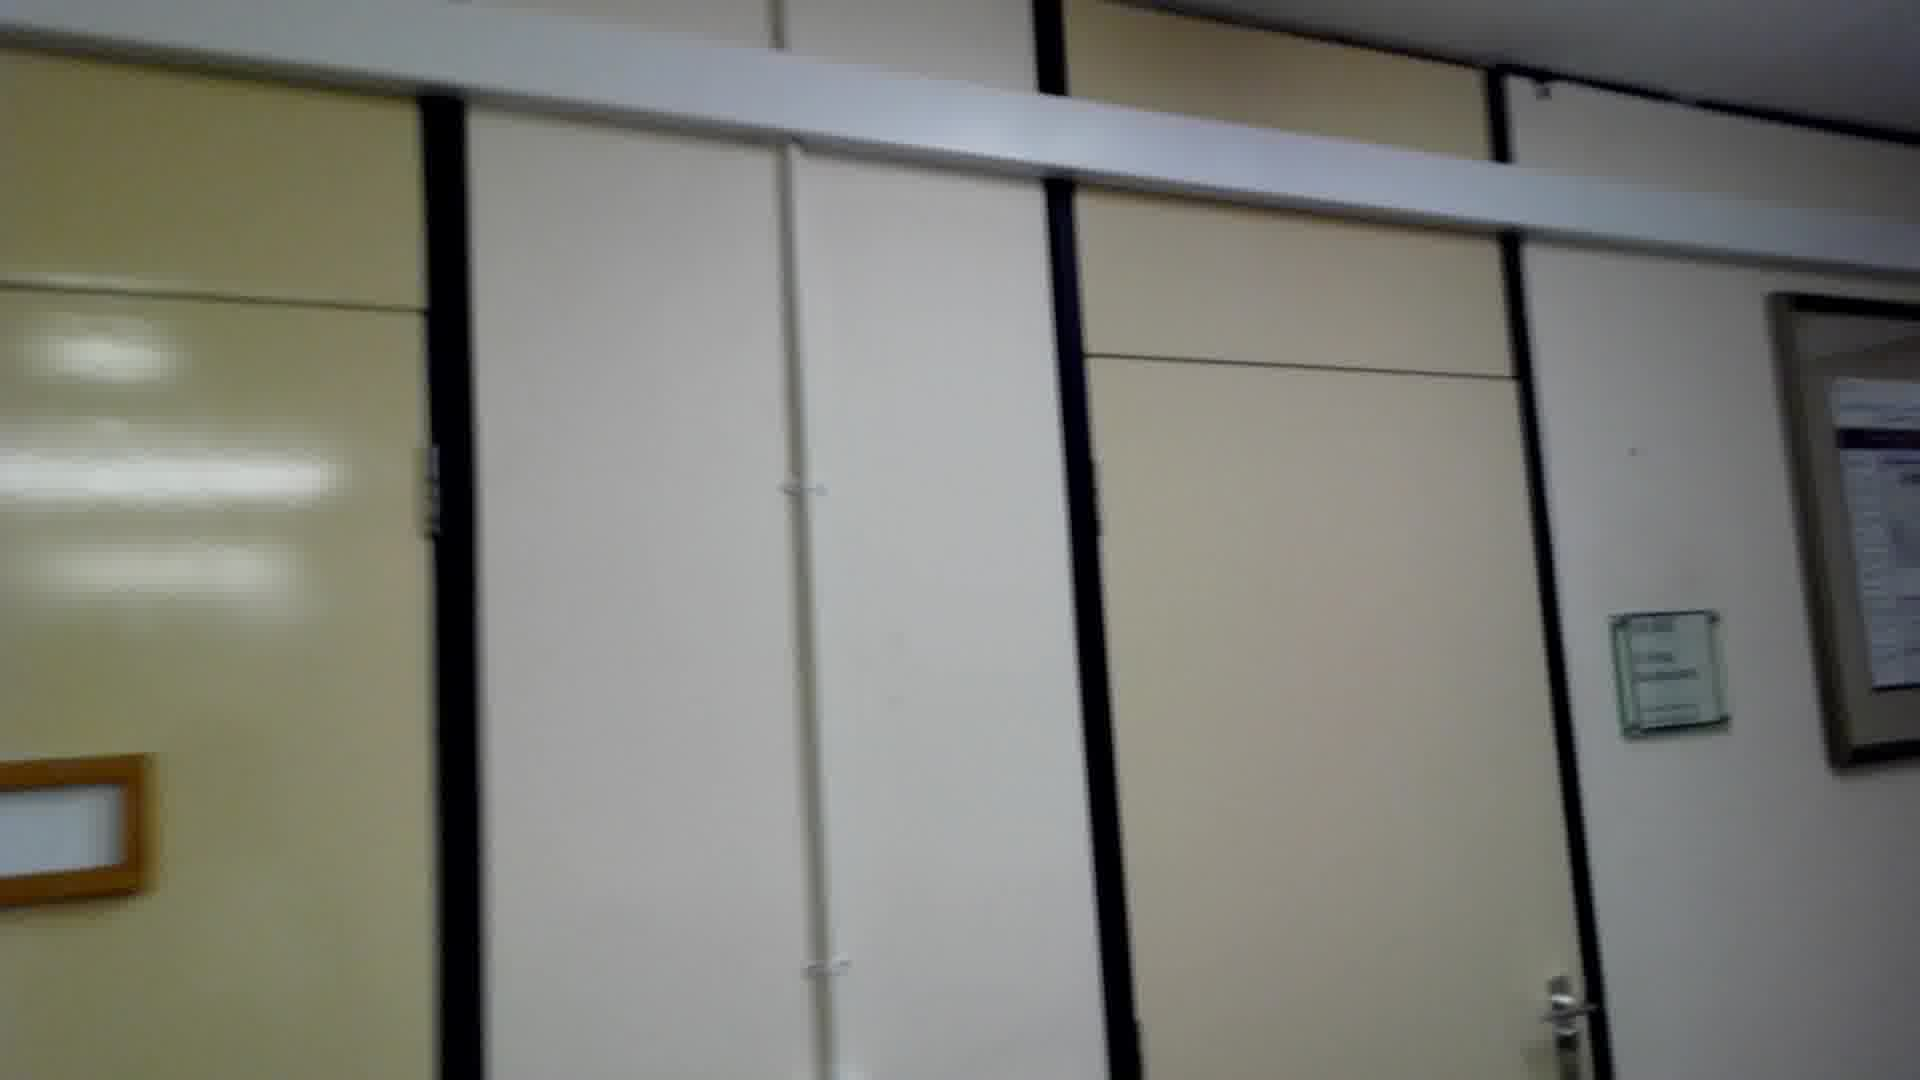Door: (1002, 326, 1619, 1080)
